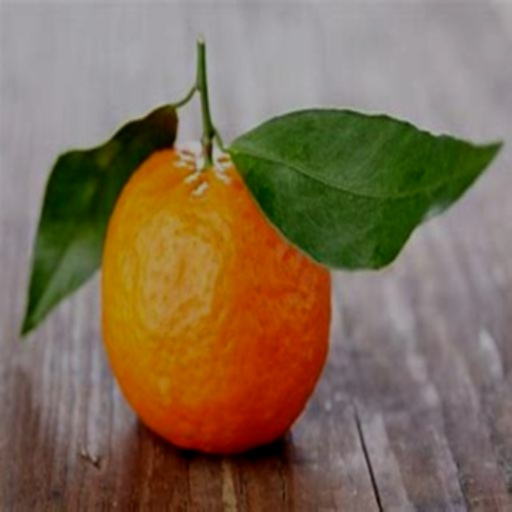fruit: (46, 161, 170, 512)
